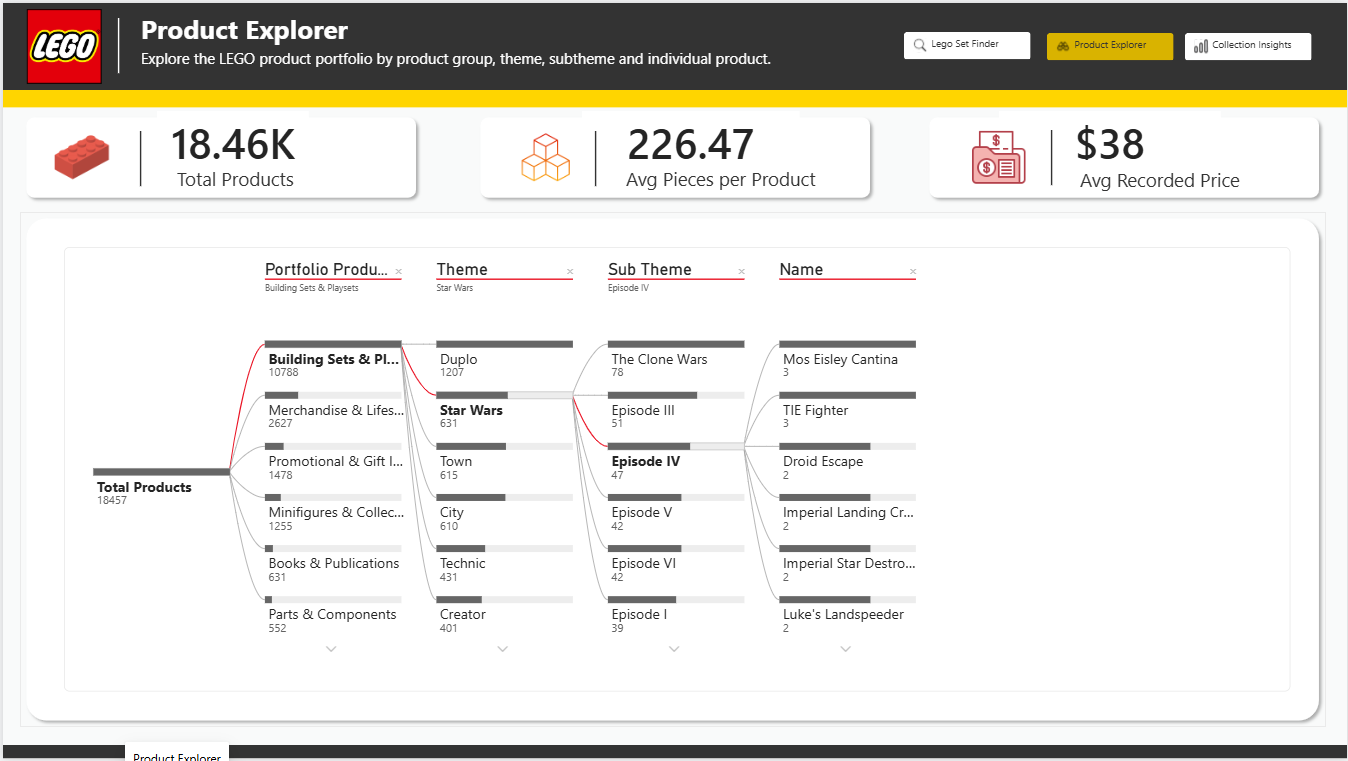

This screenshot's page, from the dashboard's own definition file:
{"tool":"powerbi","page":{"name":"Product Explorer","canvas":[1920,1080],"ordinal":1},"visuals":[{"type":"shape","box":[0,0,1920,135.7],"z":0},{"type":"image","box":[0,8.8,175.1,106.5],"z":1000},{"type":"shape","box":[24.8,154.7,574.8,132.8],"z":2000},{"type":"shape","box":[0,1060.7,1920,19],"z":4000},{"type":"card","fields":{"Values":["Measure Table.Total Sets"]},"box":[220.3,154.7,217.4,86.1],"z":5000},{"type":"actionButton","box":[1287.5,42,180.9,39.4],"z":7000},{"type":"textbox","box":[197,11.7,564.6,71.5],"z":8000},{"type":"textbox","box":[197,64.2,965.8,71.5],"z":9000},{"type":"shape","box":[124,21.9,81.7,78.8],"z":10000},{"type":"shape","box":[0,124,1920,24.8],"z":11000},{"type":"shape","box":[672.6,154.7,574.8,132.8],"z":12000},{"type":"shape","box":[1314.5,154.7,574.8,132.8],"z":13000},{"type":"shape","box":[156.1,182.4,81.7,78.8],"z":14000},{"type":"textbox","box":[248,233.4,300.5,55.4],"z":15000},{"type":"card","fields":{"Values":["Measure Table.Avg Pieces per Product"]},"box":[827.2,154.7,310.8,86.1],"z":16000},{"type":"shape","box":[805.3,182.4,81.7,78.8],"z":17000},{"type":"textbox","box":[890,233.4,300.5,55.4],"z":18000},{"type":"card","fields":{"Values":["Measure Table.Avg Recorded Price (USD)"]},"box":[1422.5,154.7,316.6,86.1],"z":19000},{"type":"shape","box":[1457.7,180.9,81.7,78.8],"z":20000},{"type":"textbox","box":[1538.9,234.1,300.5,55.4],"z":21000},{"type":"actionButton","box":[1491,42.6,180.9,39.4],"z":25000},{"type":"actionButton","box":[1689.2,42.6,180.9,39.4],"z":26000},{"type":"image","box":[70.5,180.9,85.1,78.5],"z":29000},{"type":"image","box":[732.9,180.9,85.1,78.5],"z":30000},{"type":"image","box":[1380.6,180.9,85.1,78.5],"z":31000},{"type":"shape","box":[24.8,299.1,1864.6,735.3],"z":40000},{"type":"decompositionTreeVisual","fields":{"Analyze":["Measure Table.Total Sets"],"ExplainBy":["lego_sets.Portfolio Product Group","lego_sets.theme","lego_sets.subtheme","lego_sets.name"]},"box":[87.5,348.7,1752.2,634.7],"z":40001}]}

Visuals, with their boxes in screenshot pixels (x1, y1, x2, y2), scaled from the page's 1920x1080 canvas onto the 1348x761 screenshot:
shape: detection(0, 0, 1347, 96)
image: detection(0, 6, 123, 81)
shape: detection(17, 109, 421, 203)
shape: detection(0, 747, 1347, 760)
card - Measure Table.Total Sets: detection(155, 109, 307, 170)
actionButton: detection(904, 30, 1031, 57)
textbox: detection(138, 8, 535, 59)
textbox: detection(138, 45, 816, 96)
shape: detection(87, 15, 144, 71)
shape: detection(0, 87, 1347, 105)
shape: detection(472, 109, 876, 203)
shape: detection(923, 109, 1326, 203)
shape: detection(110, 129, 167, 184)
textbox: detection(174, 164, 385, 203)
card - Measure Table.Avg Pieces per Product: detection(581, 109, 799, 170)
shape: detection(565, 129, 623, 184)
textbox: detection(625, 164, 836, 203)
card - Measure Table.Avg Recorded Price (USD): detection(999, 109, 1221, 170)
shape: detection(1023, 127, 1081, 183)
textbox: detection(1080, 165, 1291, 204)
actionButton: detection(1047, 30, 1174, 58)
actionButton: detection(1186, 30, 1313, 58)
image: detection(49, 127, 109, 183)
image: detection(515, 127, 574, 183)
image: detection(969, 127, 1029, 183)
shape: detection(17, 211, 1327, 729)
decompositionTreeVisual - Measure Table.Total Sets x lego_sets.Portfolio Product Group: detection(61, 246, 1292, 693)
